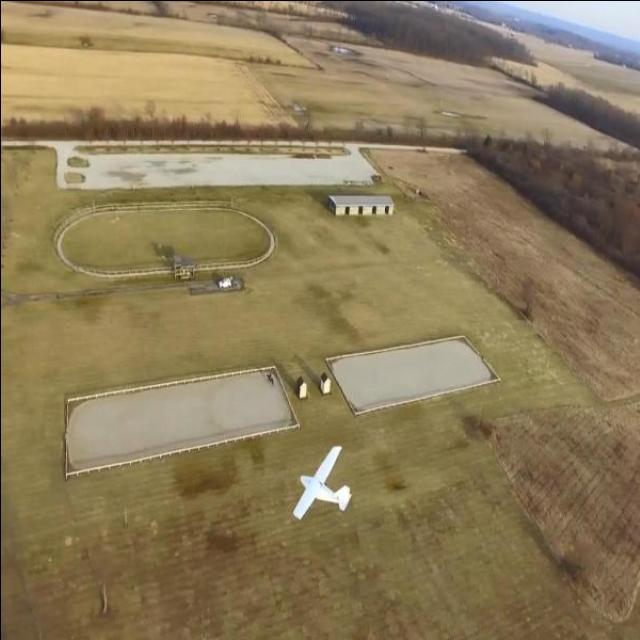plane: (290, 442, 351, 520)
